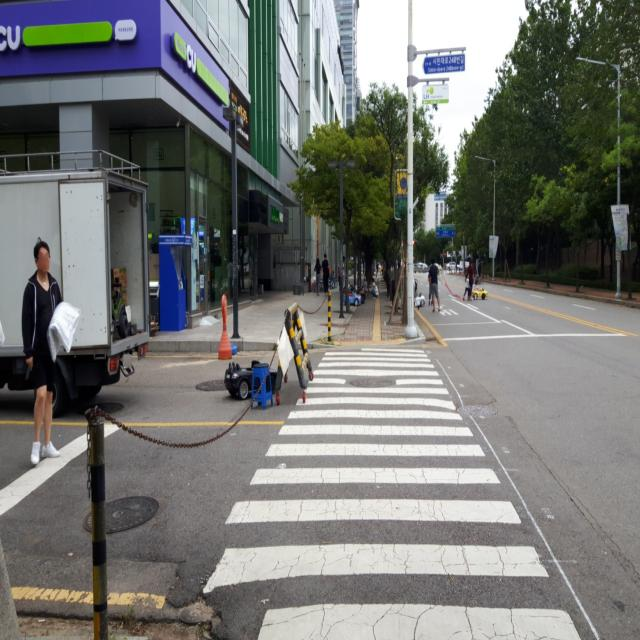횡단보도: (199, 338, 584, 640)
